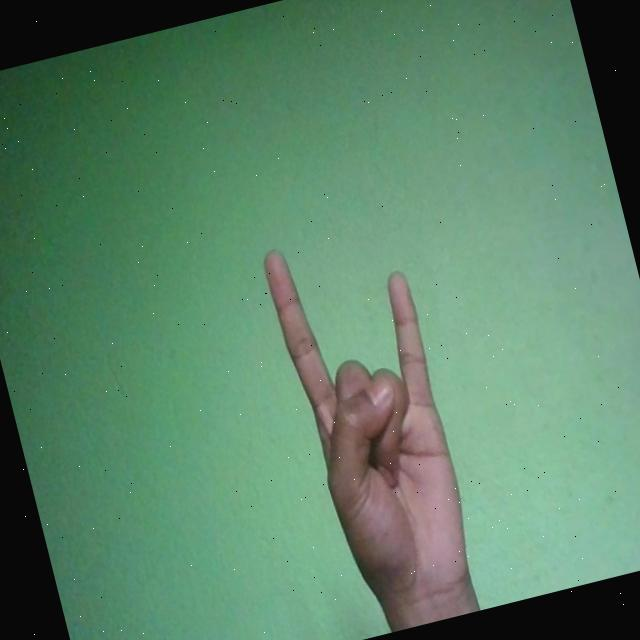open Plam: (258, 217, 488, 629)
